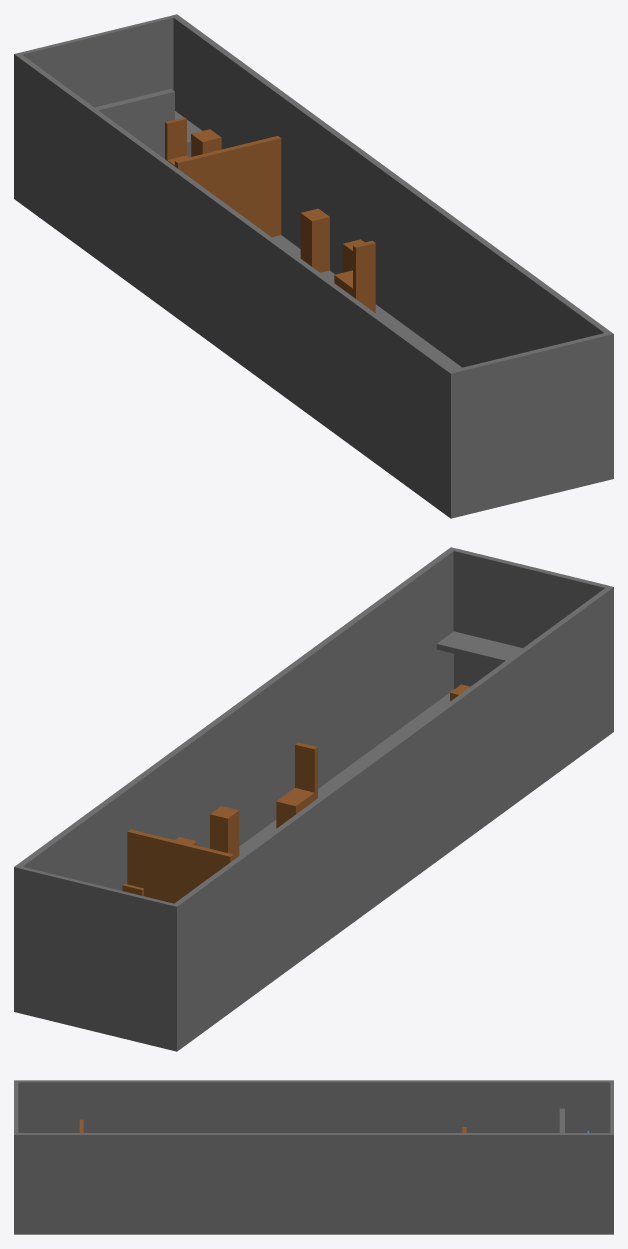
The model's file is ParkourLevel.fbx.
3 renders of one model, top to bottom at view 1: azimuth 30°, elevation 25°; view 2: azimuth 150°, elevation 25°; view 3: azimuth 270°, elevation 25°, orthographic. The views are drawn at different scales.
Visible parts, largest first — view 1: Cube, Cube.012, Cube.006, Cube.008, Cube.014, Cube.011; view 2: Cube, Cube.012, Cube.006, Cube.007; view 3: Cube.
Part boxes in pixels (x1,y1,x2,y2): Cube: (14, 14, 613, 518); Cube.012: (175, 136, 281, 237); Cube.006: (334, 240, 375, 312); Cube.008: (300, 208, 329, 272); Cube.014: (165, 117, 189, 166); Cube.011: (191, 129, 221, 156); Cube: (14, 547, 613, 1051); Cube.012: (127, 829, 233, 903); Cube.006: (276, 742, 317, 828); Cube.007: (210, 806, 239, 859); Cube: (14, 1080, 613, 1234).
Size of the model in its own units: 1652 by 1404 by 7666.
